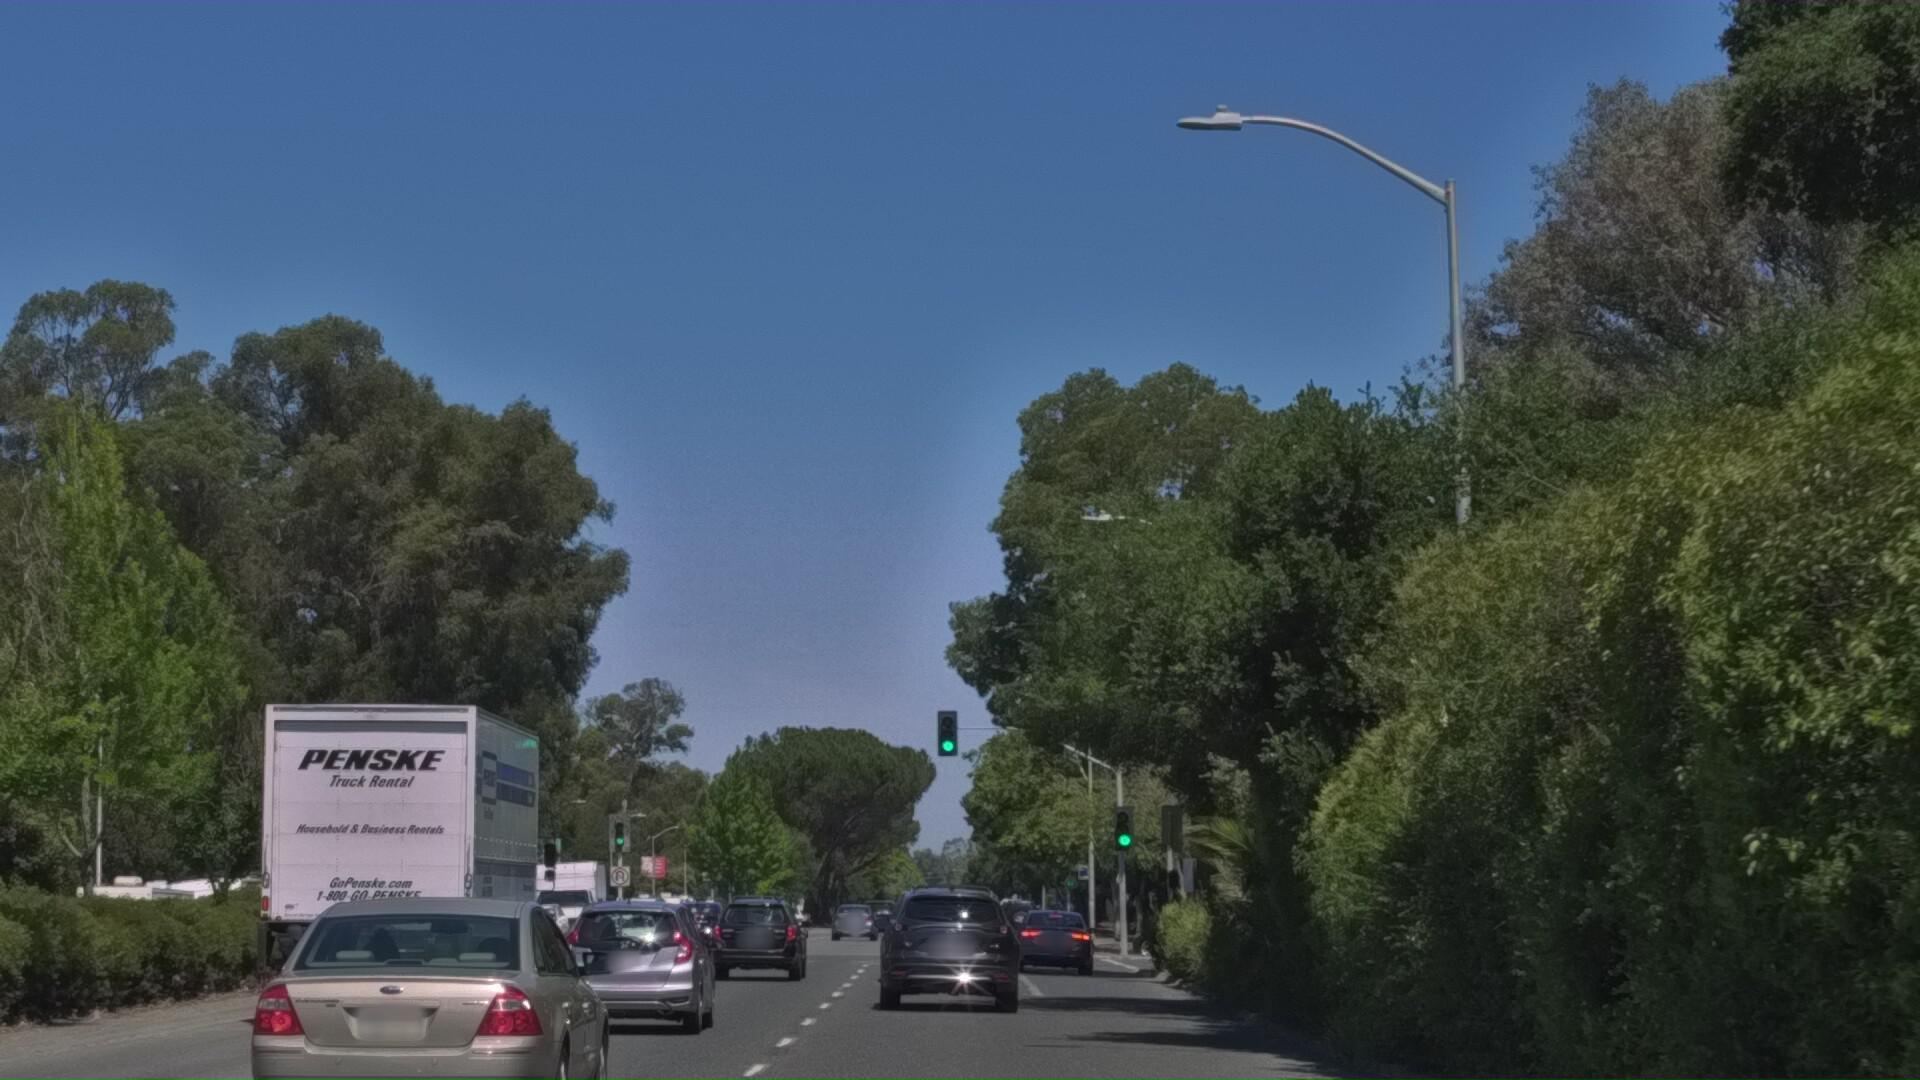car: (229, 963, 634, 1080), (856, 968, 1025, 1080), (554, 989, 741, 1080), (692, 978, 816, 1080), (1011, 976, 1112, 1064)
truck: (257, 770, 583, 1080)
